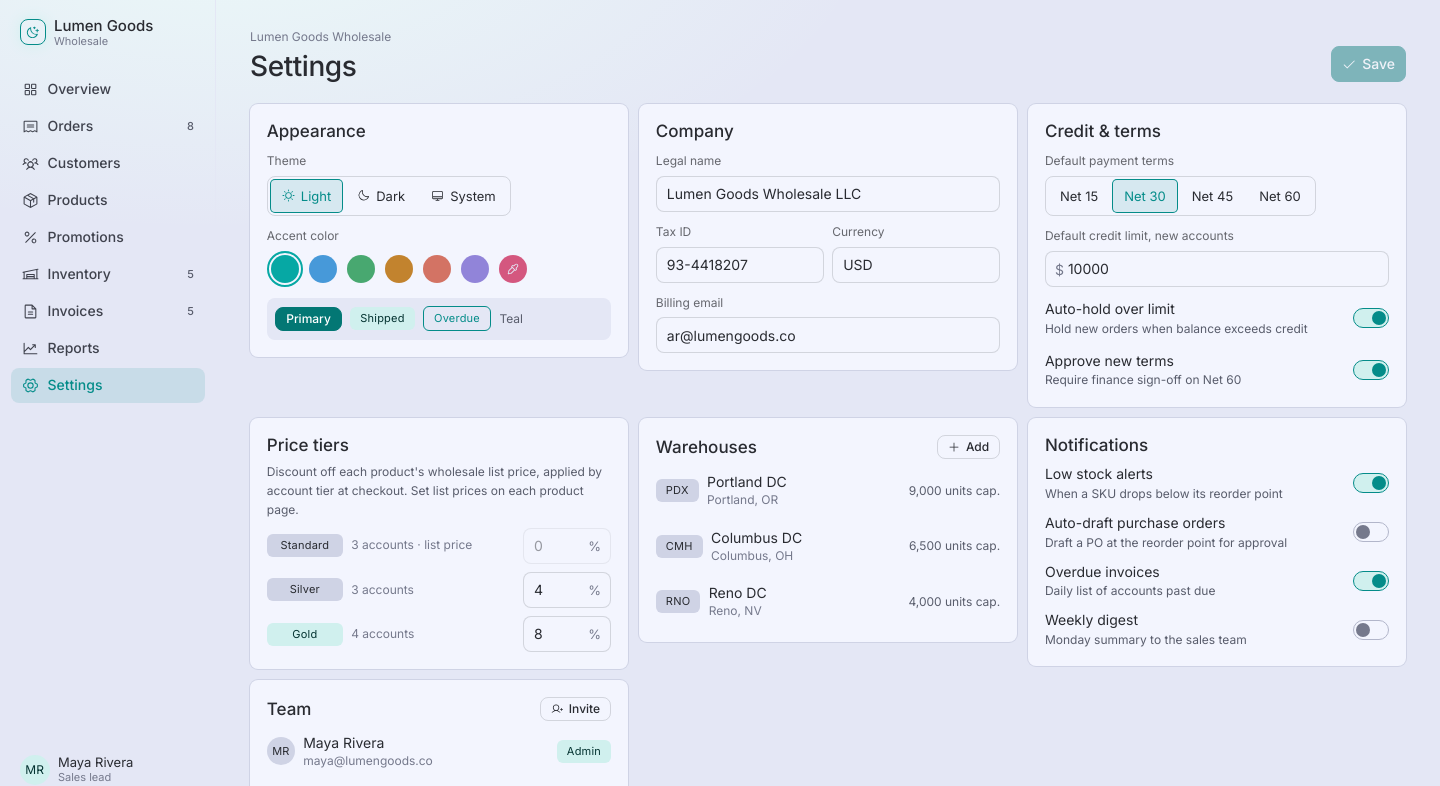
settings save › previews appearance and stores it only on Save
The image size is (1440, 786).
Click the button named "Coral" at (437, 269), box x1=419 y1=251 x2=455 y2=287
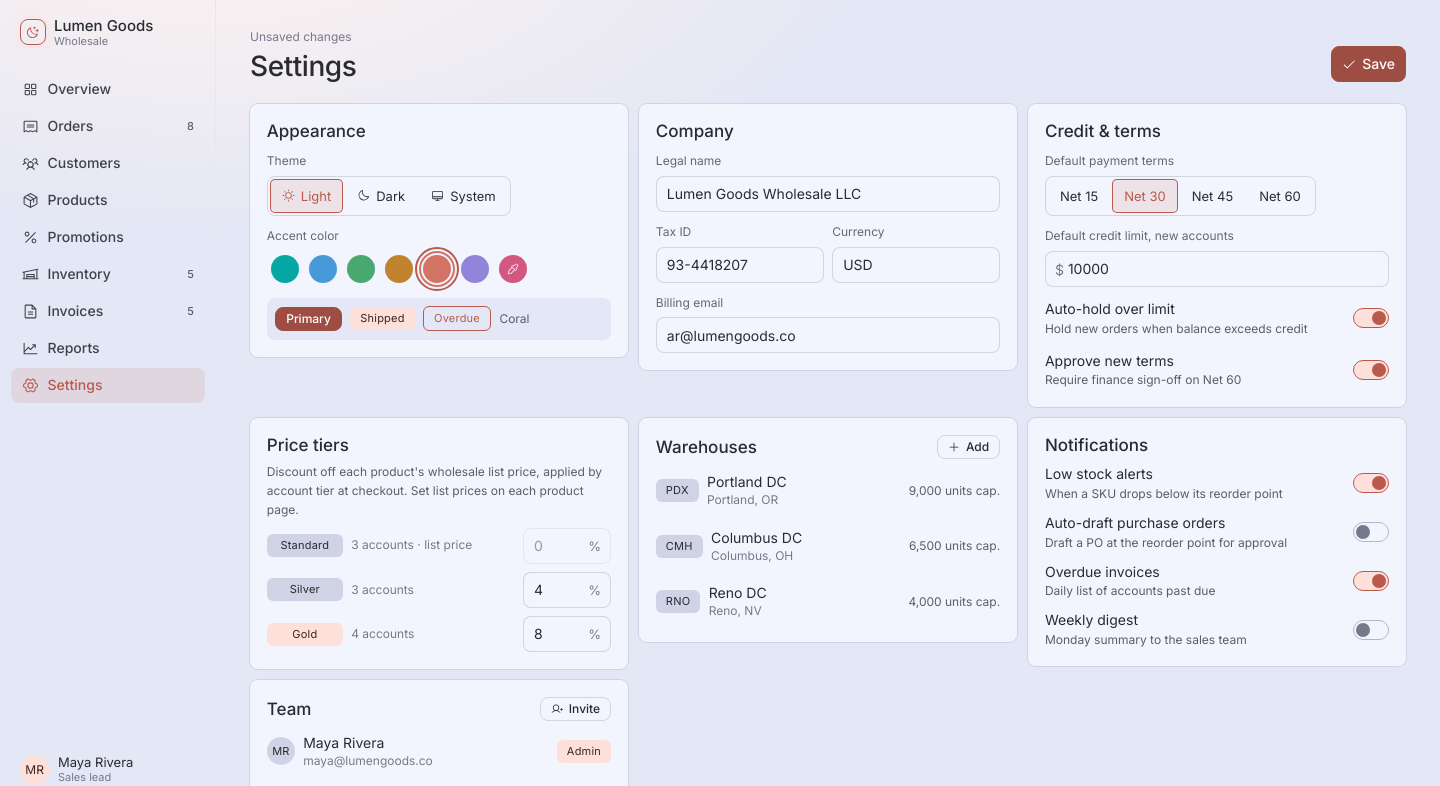
Click the button "Save" at (1369, 64), box x1=1331 y1=46 x2=1406 y2=82
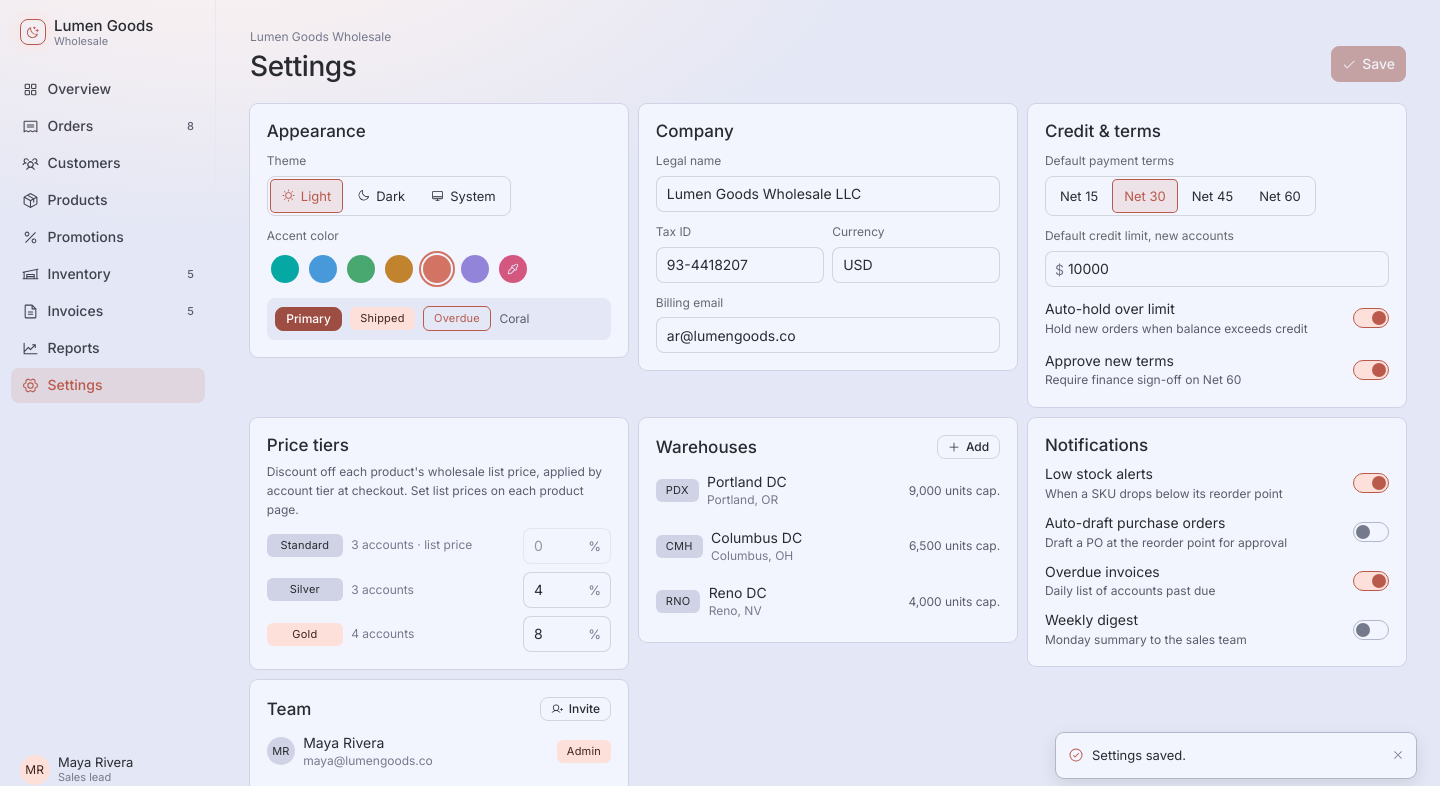
Result: the text "Settings saved." is shown at x1=1092 y1=747 x2=1186 y2=763
Result: the button "Save" is disabled at x1=1331 y1=46 x2=1406 y2=82
